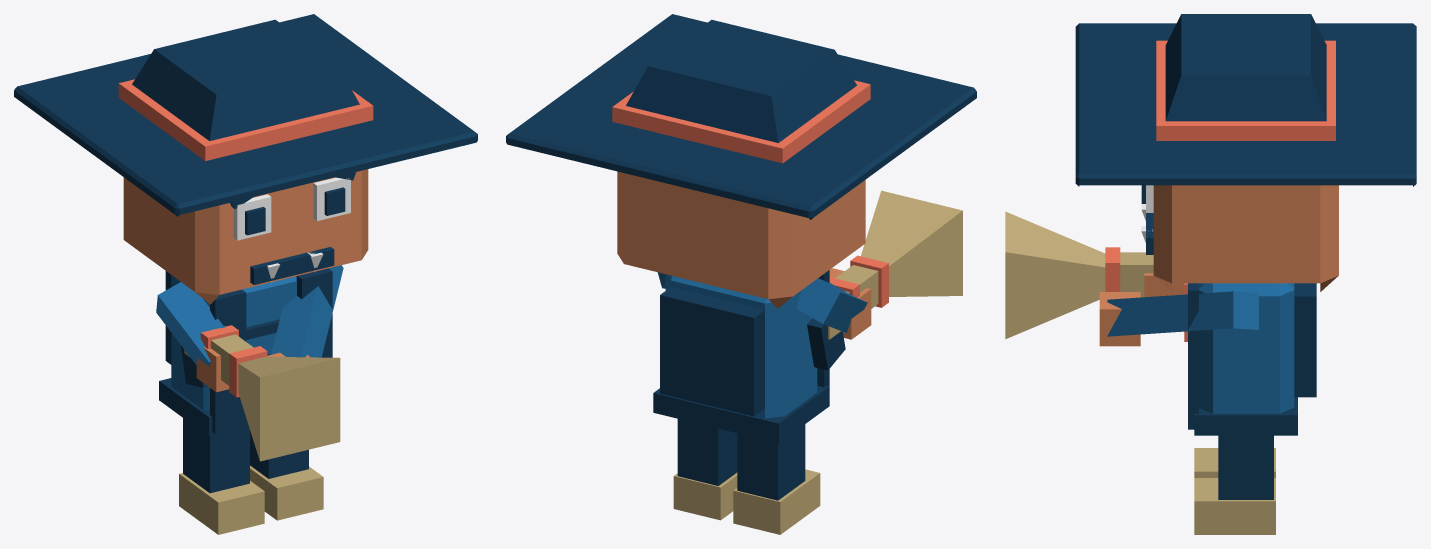
Rendered from shotgunner_r15.glb.
The picture shows the model from 3 angles, left to right: view 1: azimuth 30°, elevation 25°; view 2: azimuth 150°, elevation 25°; view 3: azimuth 270°, elevation 25°; orthographic projection. The views are drawn at different scales.
Parts seen in each view (by area): view 1: shotgunner_r15_mesh; view 2: shotgunner_r15_mesh; view 3: shotgunner_r15_mesh.
Part boxes in pixels (x1,y1,x2,y2): shotgunner_r15_mesh: [14, 14, 477, 534]; shotgunner_r15_mesh: [506, 14, 976, 534]; shotgunner_r15_mesh: [1005, 14, 1416, 534].
Size of the model in its own units: 1.07 by 1.5 by 1.21.
1 material, 1 textured.
